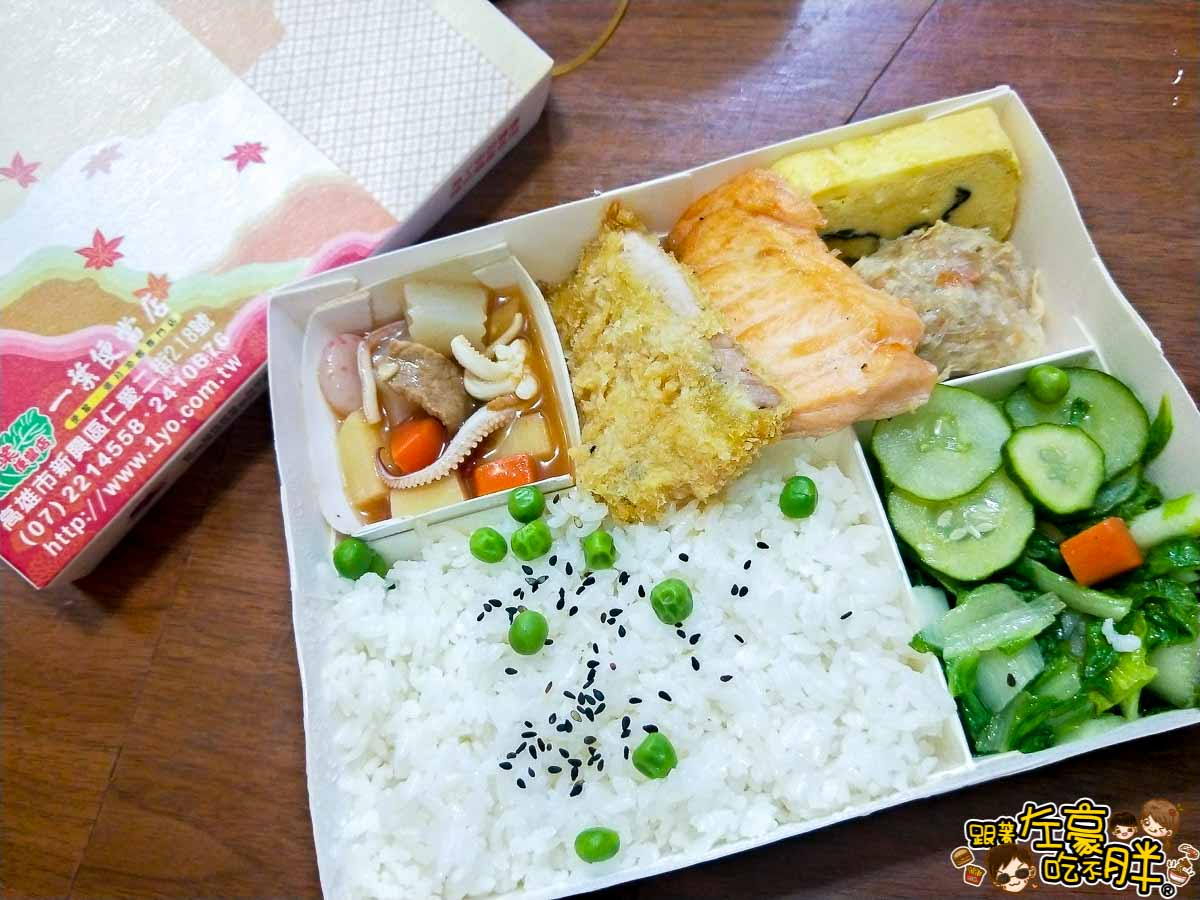rice: (373, 540, 881, 805)
